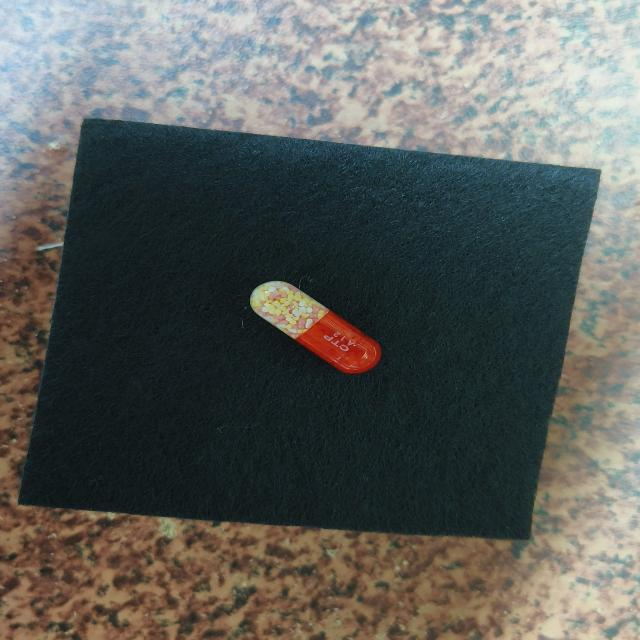Intact Capsule: (250, 281, 382, 374)
